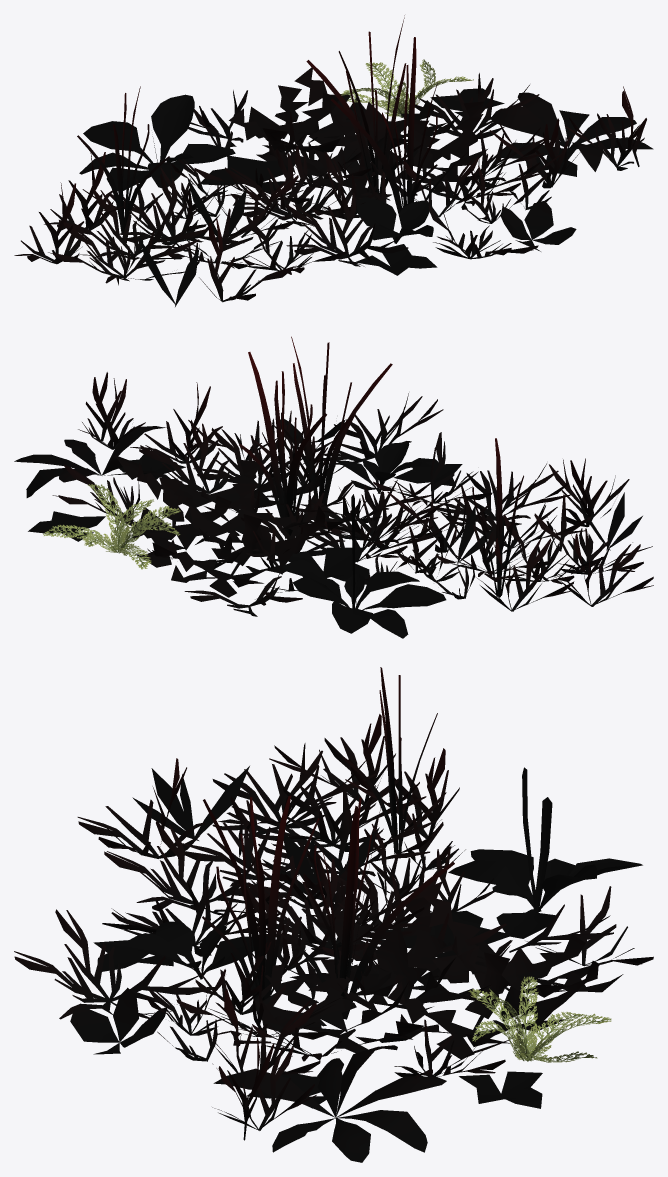
Rendered from SM_Plant_Grass_Field_Assemble_04.fbx.
The picture shows the model from 3 angles, top to bottom: view 1: azimuth 30°, elevation 25°; view 2: azimuth 150°, elevation 25°; view 3: azimuth 270°, elevation 25°; orthographic projection. The views are drawn at different scales.
Parts seen in each view (by area): view 1: SM_Plant_Grass_Field_Assemble_04; view 2: SM_Plant_Grass_Field_Assemble_04; view 3: SM_Plant_Grass_Field_Assemble_04.
Part boxes in pixels (bbox=[...]): SM_Plant_Grass_Field_Assemble_04: bbox=[14, 15, 653, 306]; SM_Plant_Grass_Field_Assemble_04: bbox=[14, 336, 653, 638]; SM_Plant_Grass_Field_Assemble_04: bbox=[14, 667, 653, 1162].
Size of the model in its own units: 165 by 46.02 by 113.
